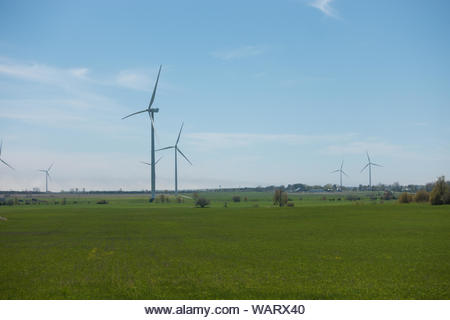working: (117, 60, 169, 142), (360, 150, 383, 183)
